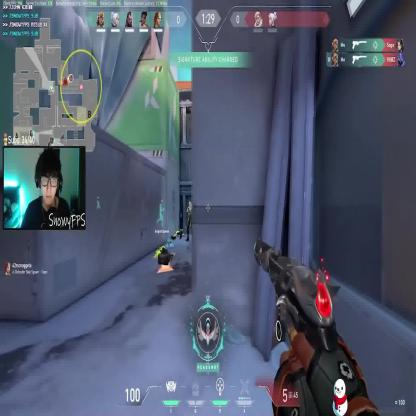enemy: (185, 201, 194, 241)
enemy_head: (188, 201, 191, 208)
